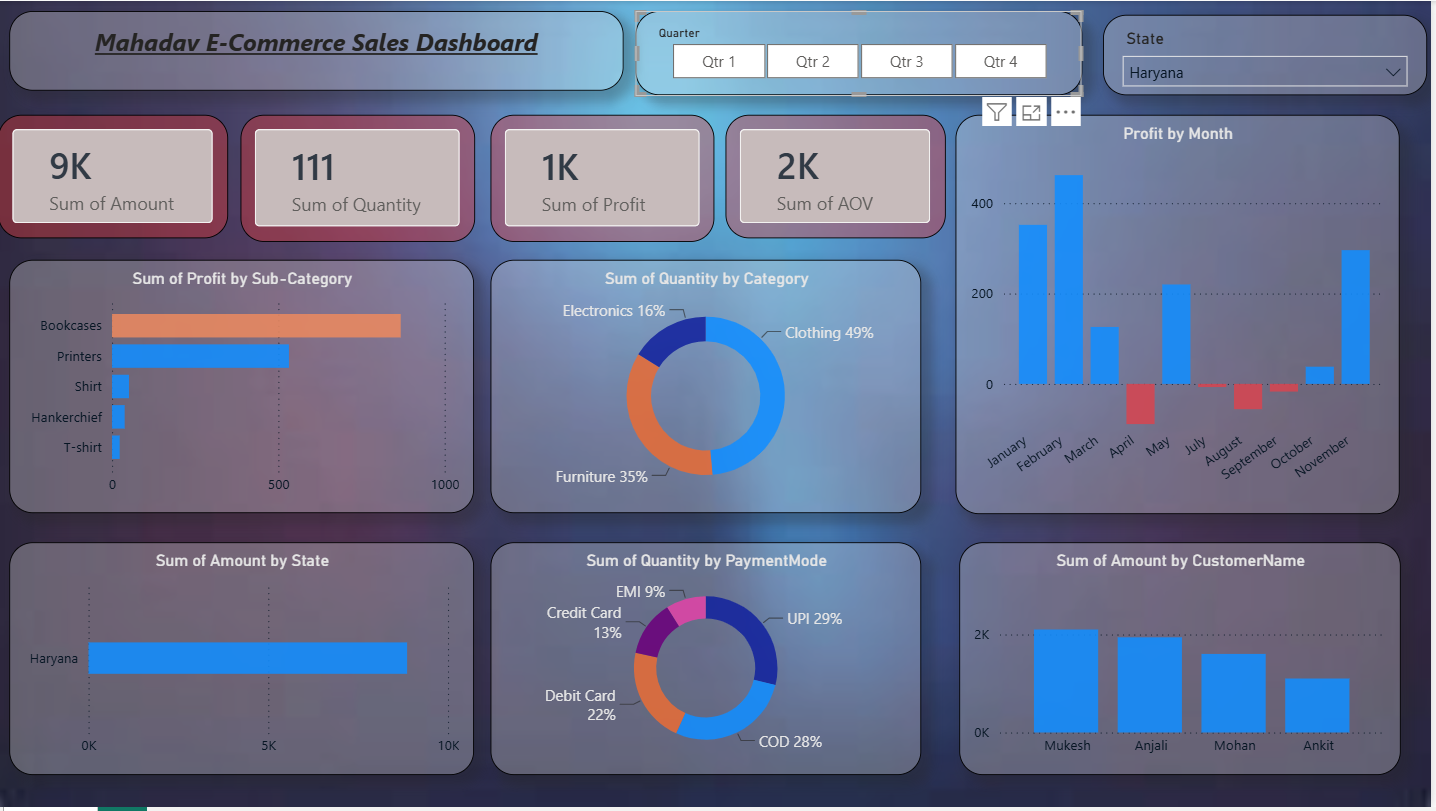

The page's visual inventory and layout, read from the dashboard file:
{"tool":"powerbi","page":{"name":"Page 1","canvas":[1280,720],"ordinal":0},"visuals":[{"type":"textbox","box":[10.5,9.3,548.8,70.9],"z":0},{"type":"columnChart","title":"Profit by Month","fields":{"Category":["Orders (1).Order Date.Variation.Date Hierarchy.Month"],"Y":["Sum(Details (1).Profit)"]},"box":[855.8,101.2,396.5,357],"z":1000},{"type":"barChart","fields":{"Category":["Details (1).Sub-Category"],"Y":["Sum(Details (1).Profit)"]},"box":[10.5,231.4,415.1,226.7],"z":2000},{"type":"donutChart","fields":{"Category":["Details (1).Category"],"Y":["Sum(Details (1).Quantity)"]},"box":[439.5,231.4,384.9,226.7],"z":3000},{"type":"donutChart","fields":{"Category":["Details (1).PaymentMode"],"Y":["Sum(Details (1).Quantity)"]},"box":[439.5,483.7,384.9,208.1],"z":4000},{"type":"cardVisual","fields":{"Data":["Sum(Details (1).Amount)"]},"box":[0,101.2,205.8,110.5],"z":4001},{"type":"cardVisual","fields":{"Data":["Sum(Details (1).Quantity)"]},"box":[216.3,101.2,209.3,114],"z":4002},{"type":"cardVisual","fields":{"Data":["Sum(Details (1).Profit)"]},"box":[439.5,101.2,200,114],"z":4003},{"type":"cardVisual","fields":{"Data":["Sum(Details (1).AOV)"]},"box":[650,101.2,196.5,110.5],"z":4004},{"type":"barChart","fields":{"Category":["Orders (1).State"],"Y":["Sum(Details (1).Amount)"]},"box":[10.5,483.7,415.1,208.1],"z":4005},{"type":"columnChart","fields":{"Y":["Sum(Details (1).Amount)"],"Category":["Orders (1).CustomerName"]},"box":[858.1,483.7,394.2,208.1],"z":4006},{"type":"slicer","fields":{"Values":["Orders (1).Order Date.Variation.Date Hierarchy.Quarter"]},"box":[569.8,9.3,398.8,75.6],"z":4007},{"type":"slicer","fields":{"Values":["Orders (1).State"]},"box":[987.2,12.8,289.5,72.1],"z":4008}]}

Visuals, with their boxes in screenshot pixels (x1, y1, x2, y2), scaled from the page's 1280x720 canvas onto the 1436x811 screenshot:
textbox: {"left": 12, "top": 10, "right": 627, "bottom": 90}
"Profit by Month" columnChart: {"left": 960, "top": 114, "right": 1405, "bottom": 516}
barChart - Details (1).Sub-Category x Sum(Details (1).Profit): {"left": 12, "top": 261, "right": 477, "bottom": 516}
donutChart - Details (1).Category x Sum(Details (1).Quantity): {"left": 493, "top": 261, "right": 925, "bottom": 516}
donutChart - Details (1).PaymentMode x Sum(Details (1).Quantity): {"left": 493, "top": 545, "right": 925, "bottom": 779}
cardVisual - Sum(Details (1).Amount): {"left": 0, "top": 114, "right": 231, "bottom": 238}
cardVisual - Sum(Details (1).Quantity): {"left": 243, "top": 114, "right": 477, "bottom": 242}
cardVisual - Sum(Details (1).Profit): {"left": 493, "top": 114, "right": 717, "bottom": 242}
cardVisual - Sum(Details (1).AOV): {"left": 729, "top": 114, "right": 950, "bottom": 238}
barChart - Orders (1).State x Sum(Details (1).Amount): {"left": 12, "top": 545, "right": 477, "bottom": 779}
columnChart - Sum(Details (1).Amount) x Orders (1).CustomerName: {"left": 963, "top": 545, "right": 1405, "bottom": 779}
slicer - Orders (1).Order Date.Variation.Date Hierarchy.Quarter: {"left": 639, "top": 10, "right": 1087, "bottom": 96}
slicer - Orders (1).State: {"left": 1108, "top": 14, "right": 1432, "bottom": 96}
